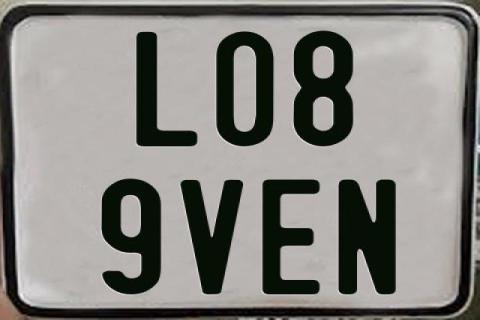0: (99, 177, 164, 295), (292, 31, 354, 151), (216, 30, 278, 146)
E: (262, 177, 326, 293)
L: (135, 32, 196, 146)
N: (338, 178, 400, 298)
V: (180, 178, 245, 298)
